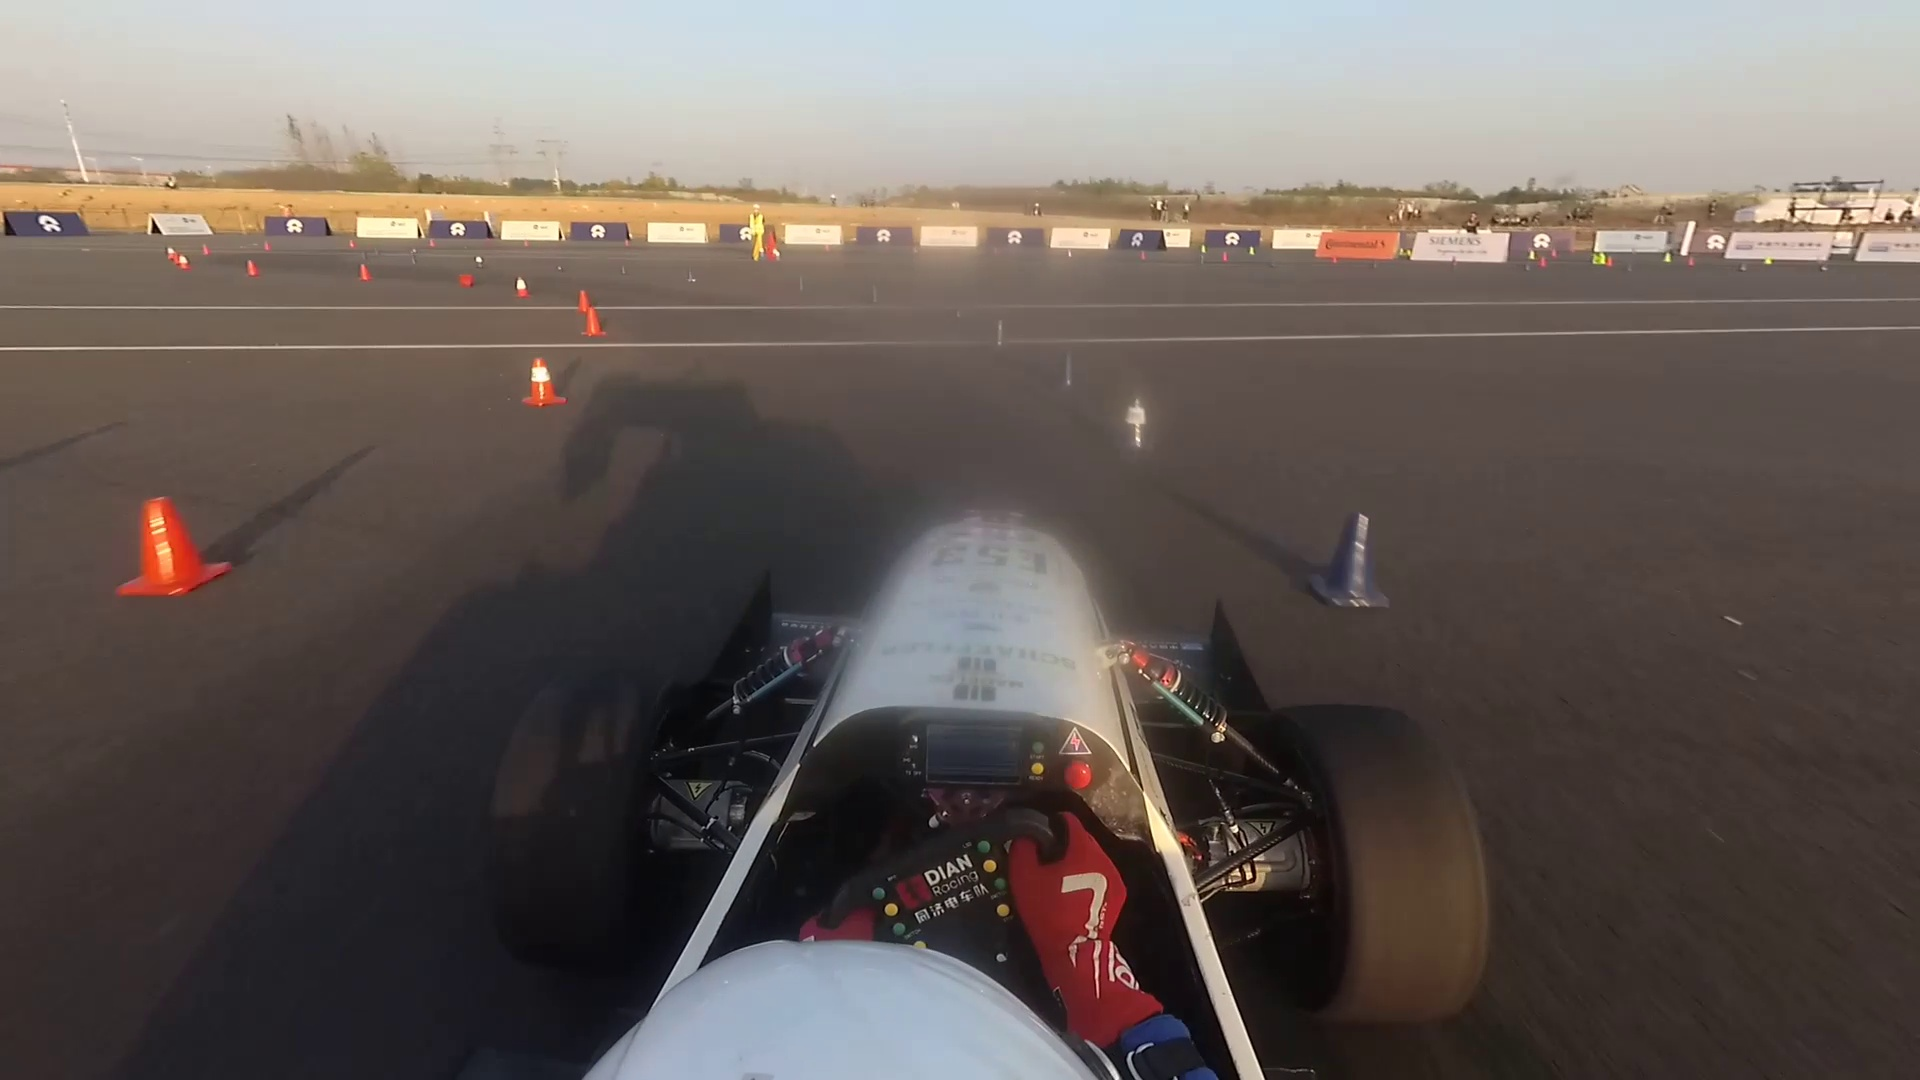blue_cone: (1315, 506, 1386, 608), (1122, 394, 1153, 454), (1062, 349, 1081, 389), (860, 278, 884, 309), (992, 318, 1011, 352), (791, 272, 811, 295)
red_cone: (104, 493, 251, 608), (513, 355, 578, 415), (576, 309, 609, 339), (512, 272, 529, 301), (356, 262, 377, 284), (455, 273, 477, 290), (574, 289, 589, 313), (243, 257, 261, 276), (200, 243, 216, 258), (162, 247, 179, 261), (347, 233, 359, 251), (261, 237, 274, 251), (177, 253, 189, 266)
